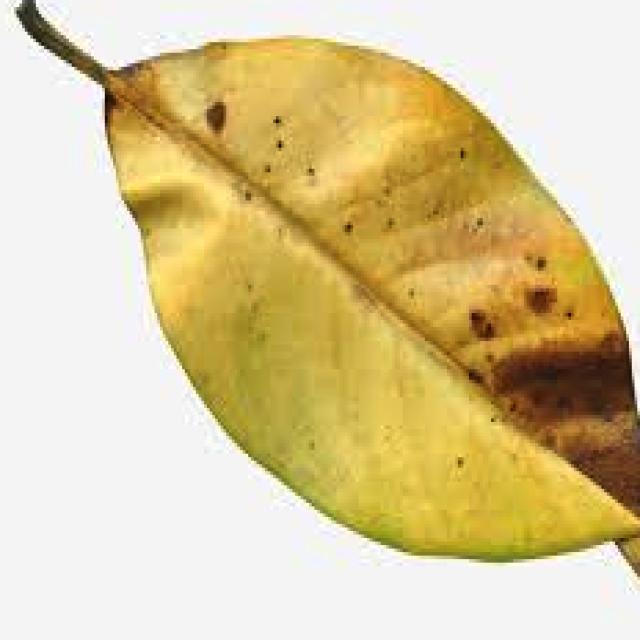leaf: (13, 0, 638, 569)
